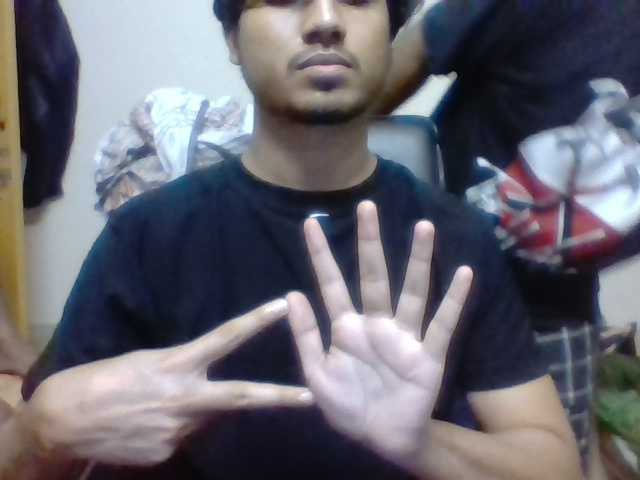N: (201, 295, 288, 416)
